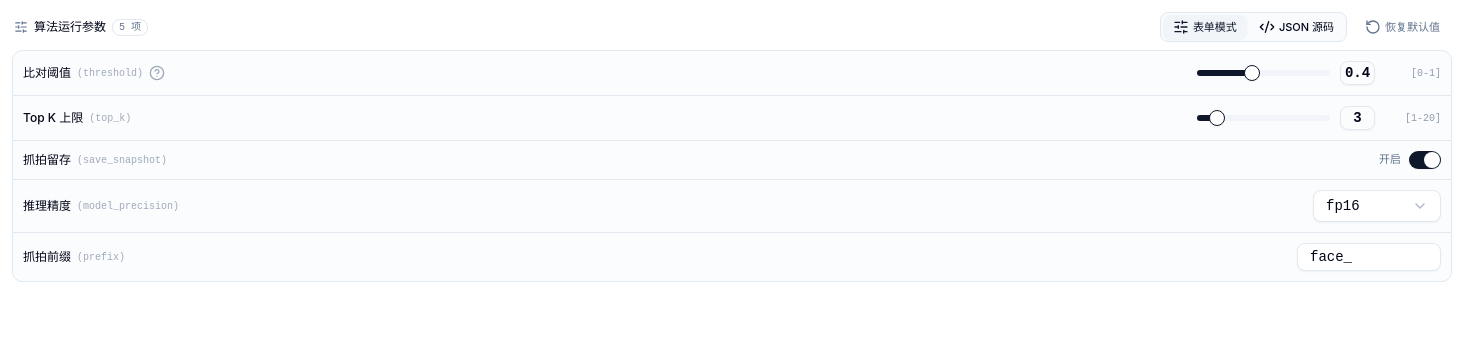
Test: AlgoConfigDynamicForm · 枚举 › commits a string enum member unchanged
This screenshot has width=1464, height=341.
Click the dropdown named "推理精度" at (1377, 206), box [1313,190,1441,222]
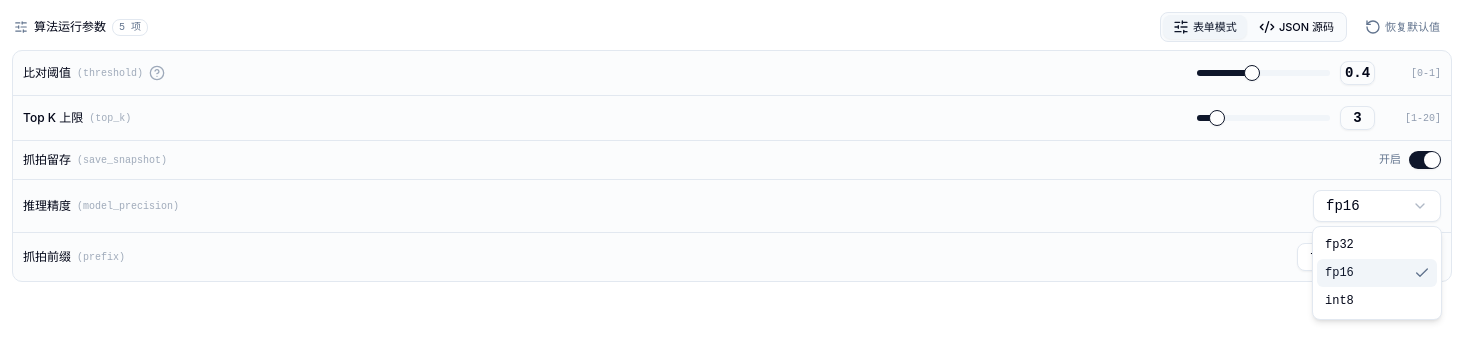
Click the option "int8" at (1339, 301), box [1325,294,1354,308]
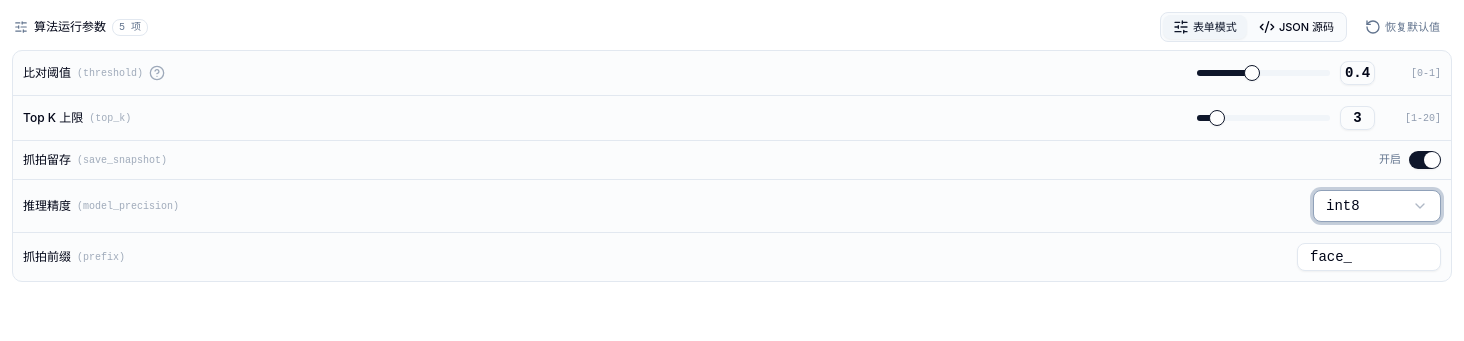
Expected: the text "int8" is shown, [1326,196,1360,216]
